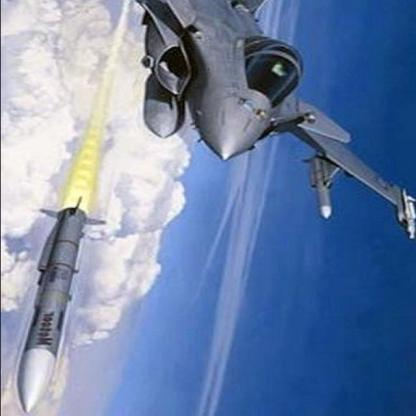MIL_TBM: (18, 198, 109, 414), (310, 156, 332, 220)
